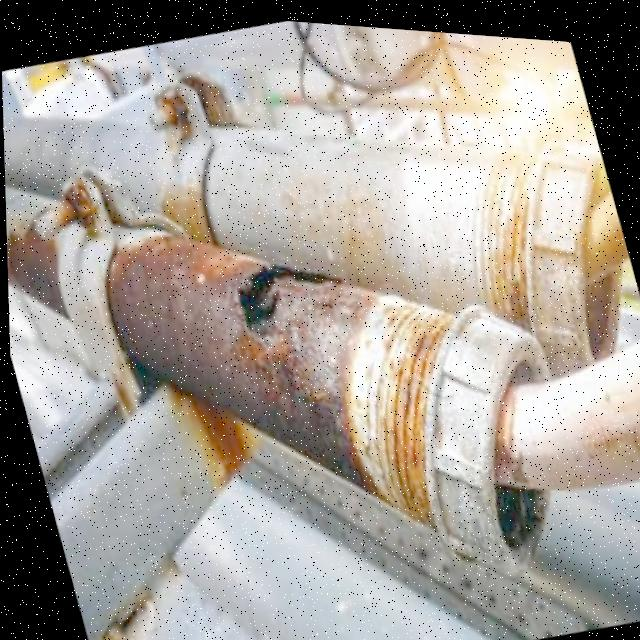hole: (222, 251, 331, 329)
